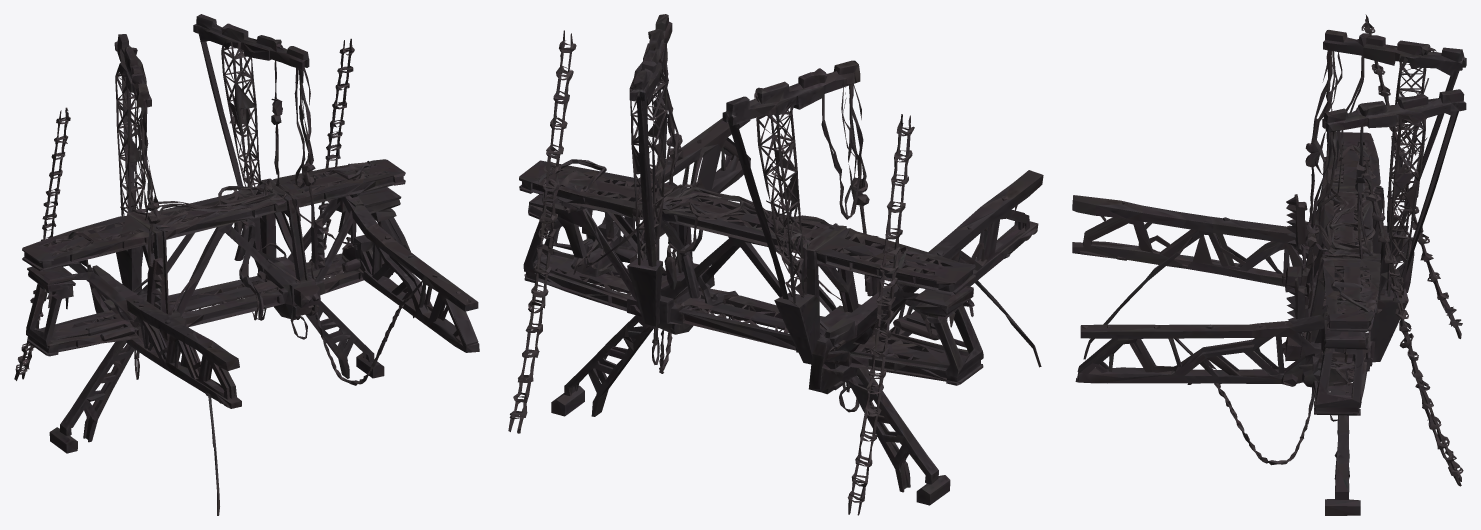
File: mx_wz_bridge.glb
The picture shows the model from 3 angles, left to right: view 1: azimuth 30°, elevation 25°; view 2: azimuth 150°, elevation 25°; view 3: azimuth 270°, elevation 25°; orthographic projection. The views are drawn at different scales.
Bounding box in the file's own units: 1.9 × 1.71 × 1.68.
1 material, 1 textured.
